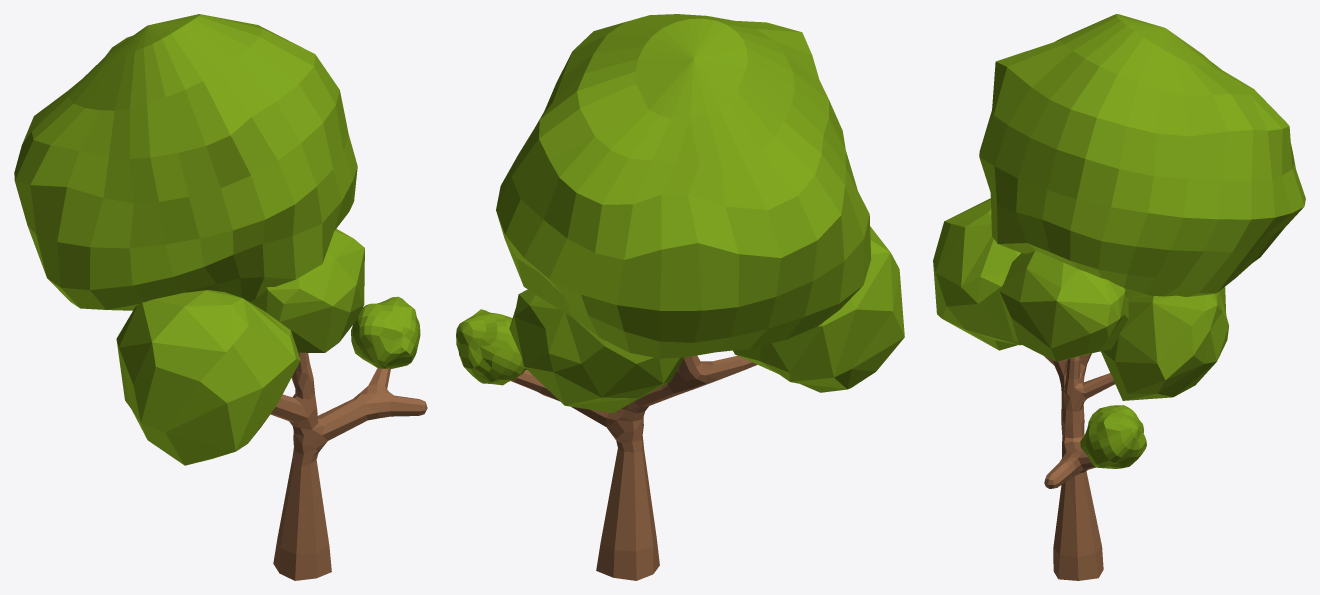
The model's file is Tree_2.fbx.
3 renders of one model, left to right at view 1: azimuth 30°, elevation 25°; view 2: azimuth 150°, elevation 25°; view 3: azimuth 270°, elevation 25°, orthographic. The views are drawn at different scales.
Parts seen in each view (by area): view 1: Tree_2_LOD0; view 2: Tree_2_LOD0; view 3: Tree_2_LOD0.
Part boxes in pixels (<box>): Tree_2_LOD0: <box>14,14,427,580</box>; Tree_2_LOD0: <box>456,14,904,580</box>; Tree_2_LOD0: <box>933,14,1305,580</box>.
Size of what is drawn, in the model's own units: 757 by 1073 by 713.
